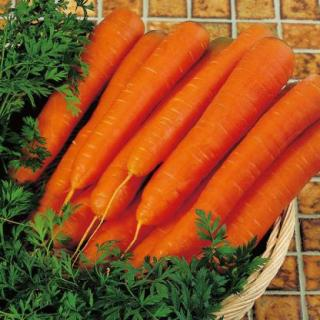Wortel: (147, 75, 320, 261), (135, 36, 296, 230), (68, 21, 212, 190)
